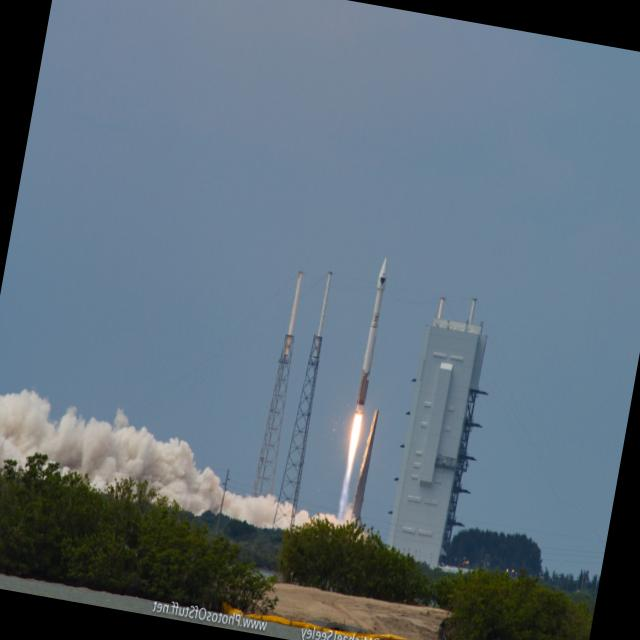rocket: (337, 258, 393, 491)
